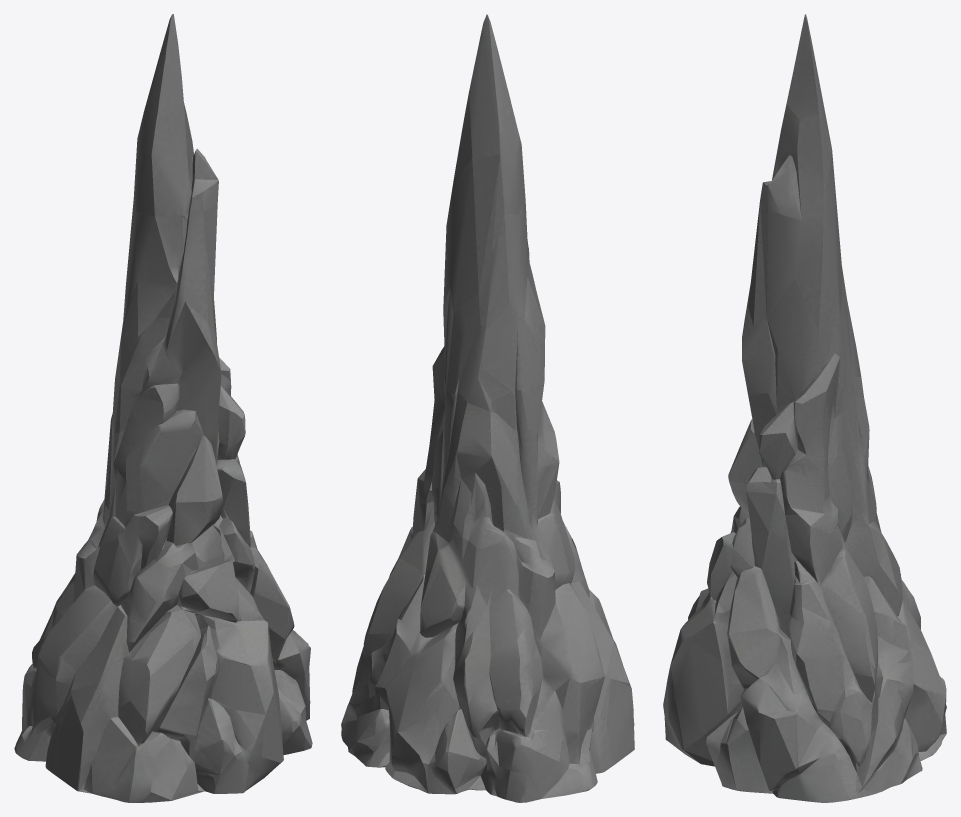
The model's file is spire.glb.
3 views of the same model, side by side, from view 1: azimuth 30°, elevation 25°; view 2: azimuth 150°, elevation 25°; view 3: azimuth 270°, elevation 25° (orthographic).
Visible parts, largest first — view 1: mesh_node; view 2: mesh_node; view 3: mesh_node.
Boxes of the visible parts, x1=… form: mesh_node: x1=14, y1=14, x2=312, y2=802; mesh_node: x1=341, y1=14, x2=634, y2=802; mesh_node: x1=663, y1=14, x2=946, y2=802.
Size of the model in its own units: 0.7137 by 1.9 by 0.6736.
1 material, 1 textured.
